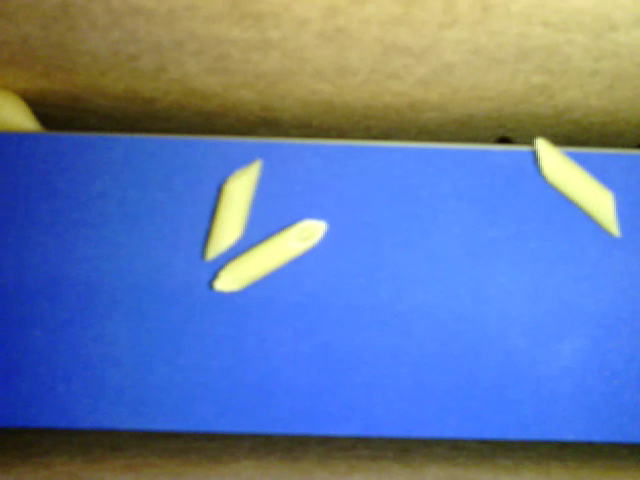penne: (534, 136, 621, 236), (211, 217, 327, 292), (202, 158, 262, 262)
